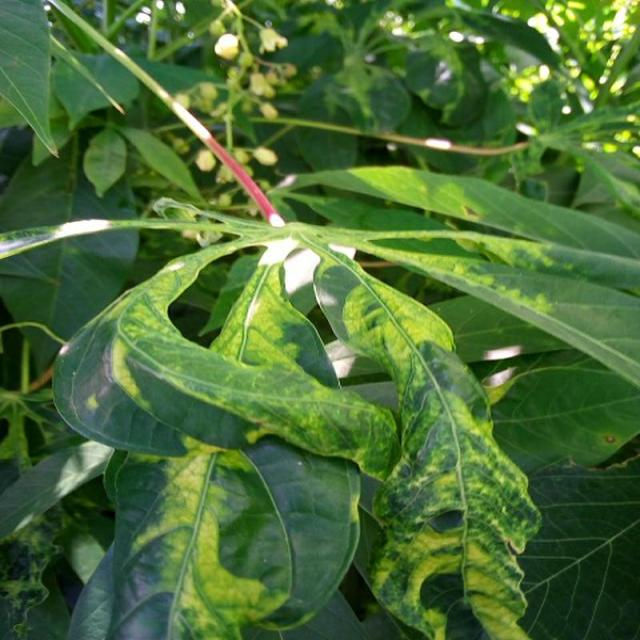cassava leaf: (1, 1, 638, 638), (51, 233, 401, 483)
